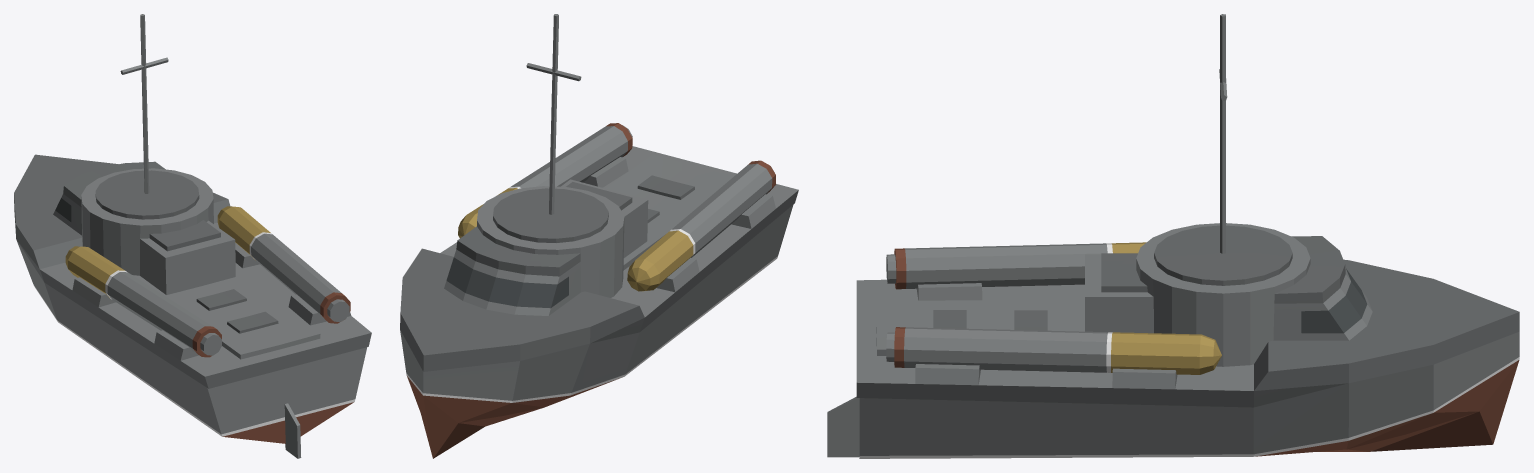
The model's file is Катер (1 юнит).fbx.
The picture shows the model from 3 angles, left to right: view 1: azimuth 30°, elevation 25°; view 2: azimuth 150°, elevation 25°; view 3: azimuth 270°, elevation 25°; orthographic projection. The views are drawn at different scales.
Parts seen in each view (by area): view 1: Торпедный_катер; view 2: Торпедный_катер; view 3: Торпедный_катер.
Boxes of the visible parts, x1,y1,x2,y2 form: Торпедный_катер: (14, 14, 371, 458); Торпедный_катер: (400, 14, 798, 458); Торпедный_катер: (827, 14, 1519, 458).
Size of the model in its own units: 0.6764 by 1.11 by 1.59.
